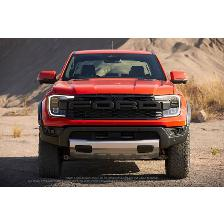NON-EV: (38, 46, 193, 181)
